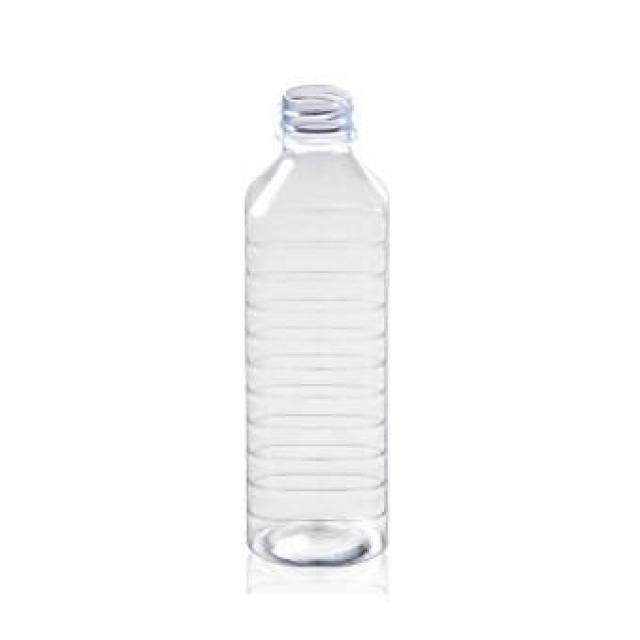bottle: (222, 65, 408, 615)
